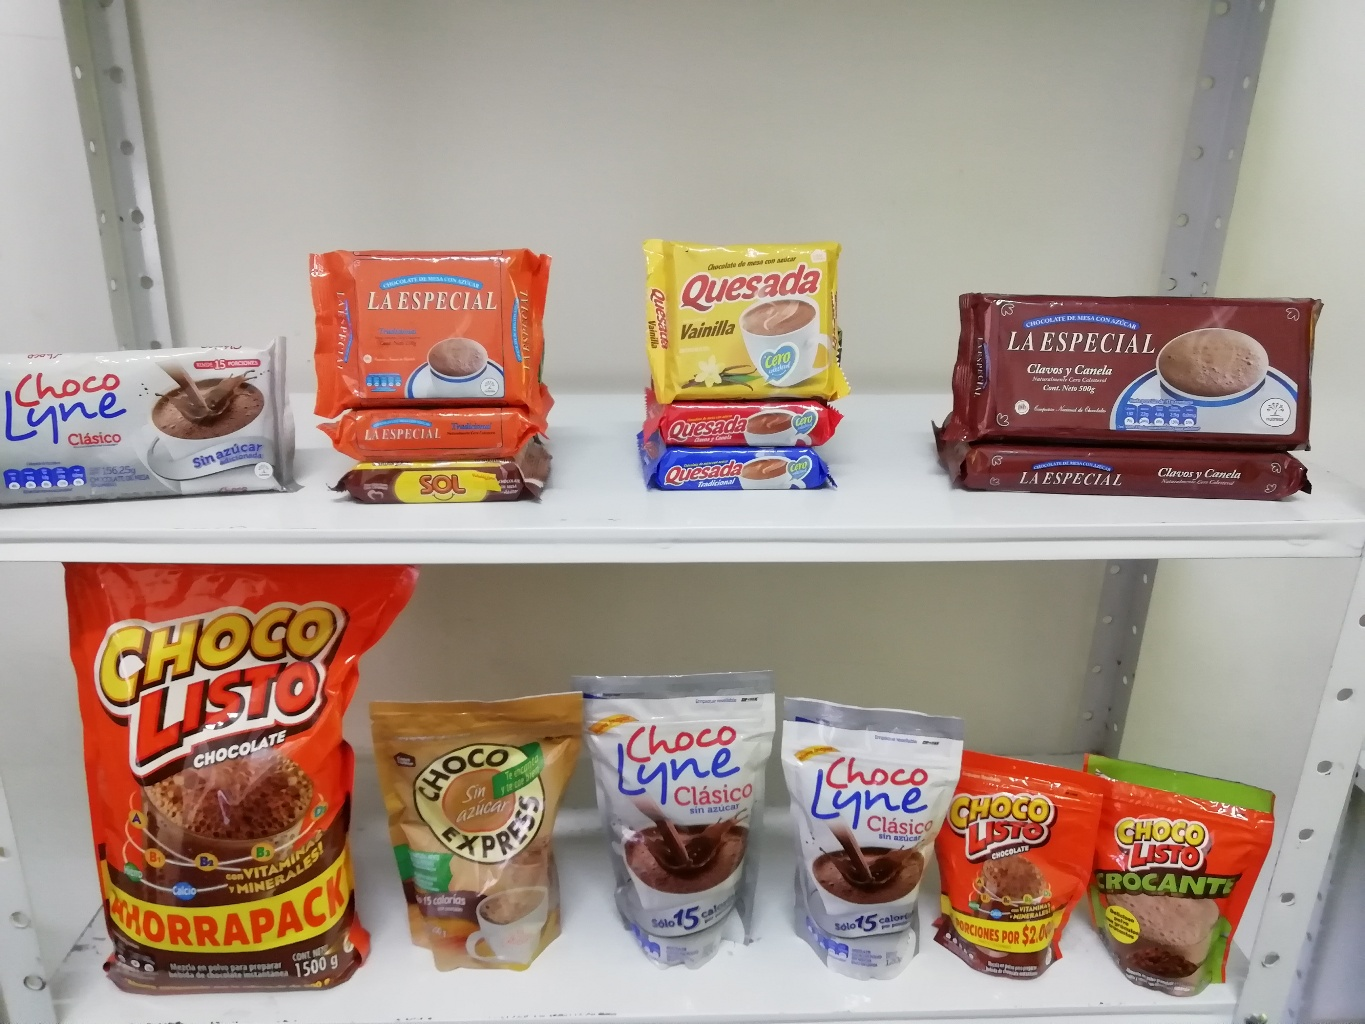COL0170102DYP10000: (1079, 734, 1289, 1019)
COL0170103DYP1,500: (53, 553, 424, 1011)
COL0170103DYP10000: (930, 734, 1109, 985)
